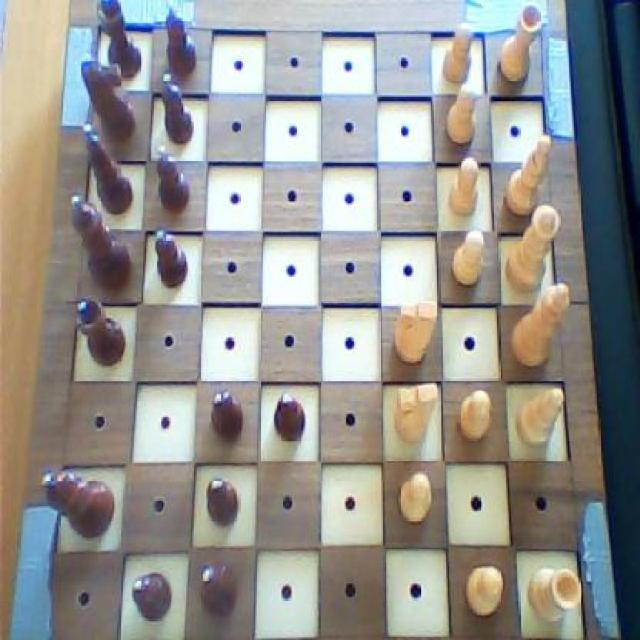bishop: (78, 120, 134, 217), (194, 559, 243, 626)
black-bishop: (36, 462, 119, 540)
black-king: (75, 49, 138, 144)
black-knight: (158, 0, 198, 77), (159, 68, 196, 148), (150, 222, 192, 292), (155, 143, 193, 218), (206, 382, 249, 446), (204, 471, 246, 532), (132, 572, 177, 626), (271, 389, 308, 448)
black-pawn: (68, 191, 136, 296)
black-queen: (71, 292, 129, 370), (94, 0, 144, 82)
black-rook: (502, 131, 554, 220), (514, 383, 571, 455)
white-bishop: (508, 280, 574, 371)
white-king: (392, 377, 441, 451), (389, 298, 440, 369)
white-knight: (460, 560, 508, 622), (449, 223, 490, 292), (441, 19, 477, 86), (448, 153, 483, 220), (457, 388, 497, 446), (444, 80, 478, 147), (395, 472, 433, 525)
white-pawn: (504, 205, 566, 293)
white-queen: (494, 2, 543, 90), (529, 564, 584, 624)
